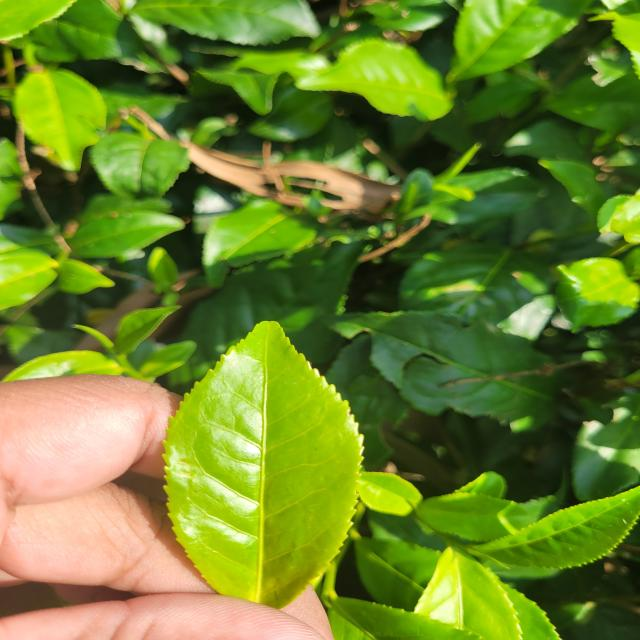Catagory A(1-2 days): (152, 317, 370, 604)
